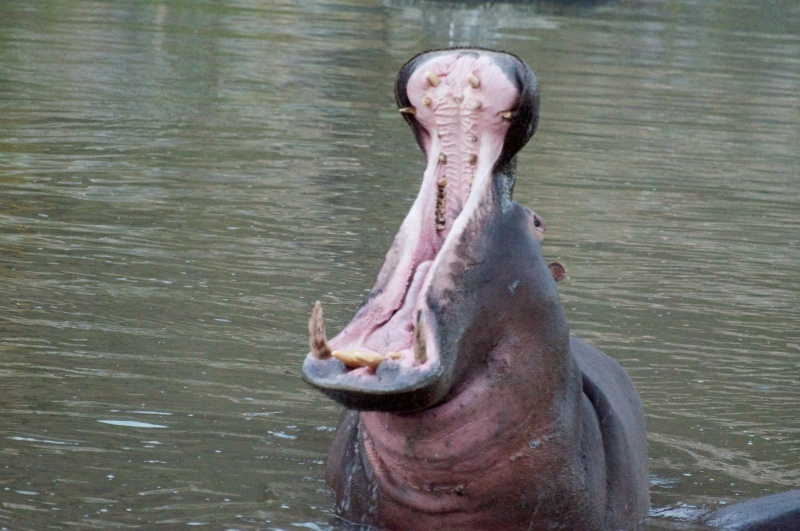hipopotamo: (294, 43, 660, 531)
